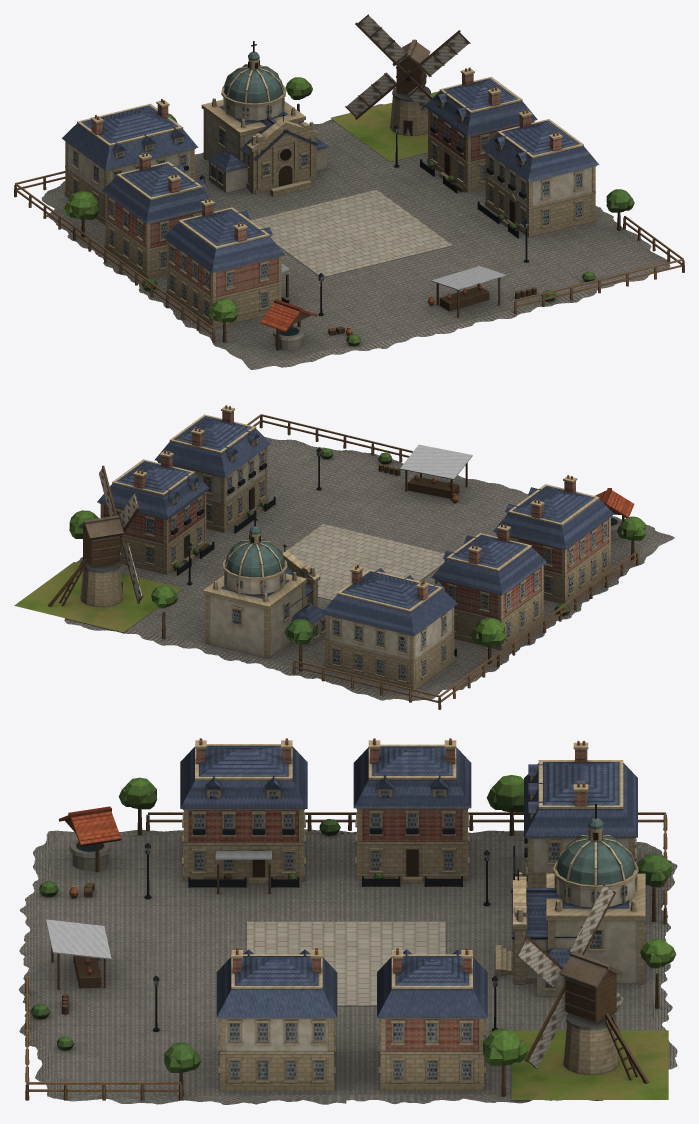
Rendered from gunpowder-town-small-b-europe.glb.
3 views of the same model, one above another, from view 1: azimuth 30°, elevation 25°; view 2: azimuth 150°, elevation 25°; view 3: azimuth 270°, elevation 25° (orthographic). The views are drawn at different scales.
Visible parts, largest first — view 1: LOD0; view 2: LOD0; view 3: LOD0.
Boxes of the visible parts, x1=… form: LOD0: x1=14, y1=14, x2=684, y2=369; LOD0: x1=14, y1=405, x2=674, y2=709; LOD0: x1=19, y1=738, x2=677, y2=1104.
Size of what is drawn, in the model's own units: 4.02 by 1.1 by 4.06.
Materials: 3 (3 with a texture image).
